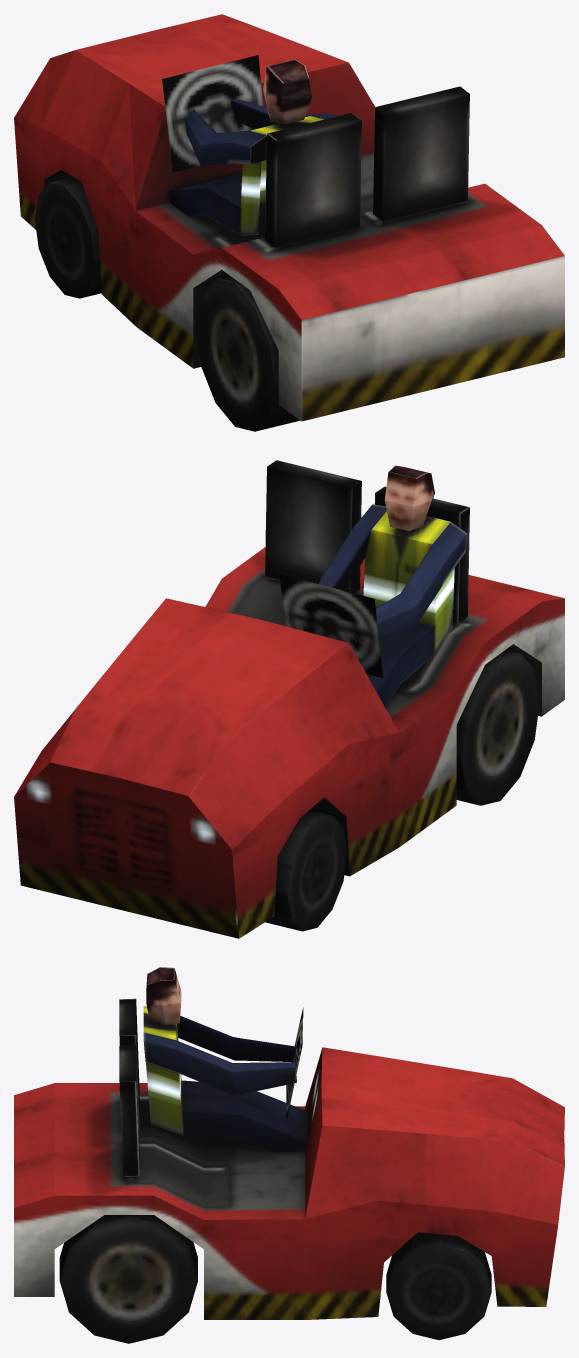
Rendered from ramp_carroAVA_LOD0.gltf.
3 renders of one model, top to bottom at view 1: azimuth 30°, elevation 25°; view 2: azimuth 150°, elevation 25°; view 3: azimuth 270°, elevation 25°, orthographic. The views are drawn at different scales.
Parts seen in each view (by area): view 1: node1; view 2: node1; view 3: node1.
Boxes of the visible parts, left/top/right/bottom form: node1: left=14, top=14, right=564, bottom=431; node1: left=14, top=460, right=564, bottom=938; node1: left=14, top=967, right=564, bottom=1343.
Bounding box in the file's own units: 1.41 × 1.67 × 2.9.
